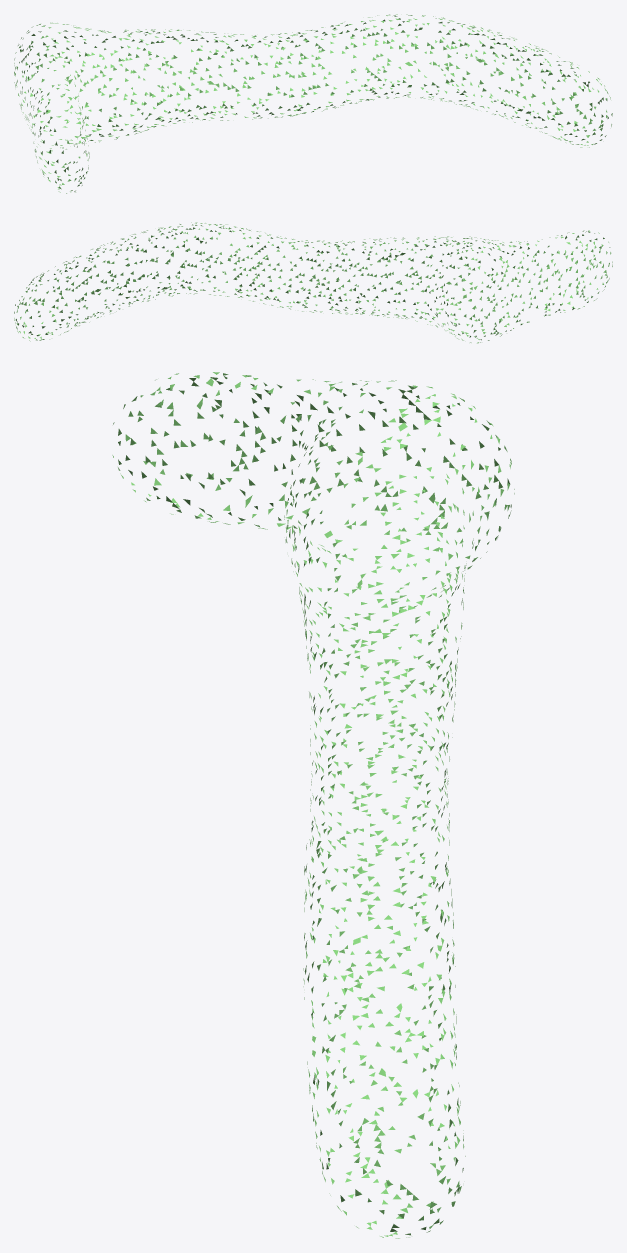
Rendered from morph_016.glb.
The picture shows the model from 3 angles, top to bottom: view 1: azimuth 30°, elevation 25°; view 2: azimuth 150°, elevation 25°; view 3: azimuth 270°, elevation 25°; orthographic projection. The views are drawn at different scales.
Size of the model in its own units: 113 by 42.06 by 37.29.
